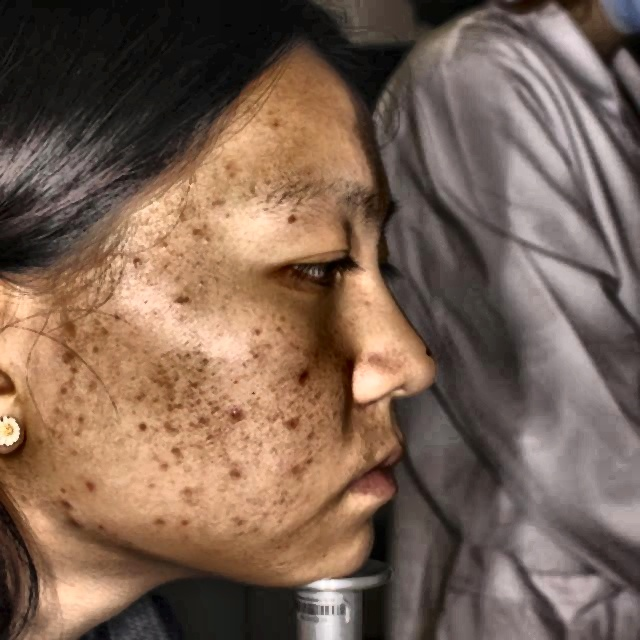pustule: (286, 353, 320, 388), (281, 447, 312, 482), (170, 476, 200, 508), (59, 489, 82, 529), (284, 407, 303, 439), (147, 514, 172, 528), (223, 398, 240, 418)
